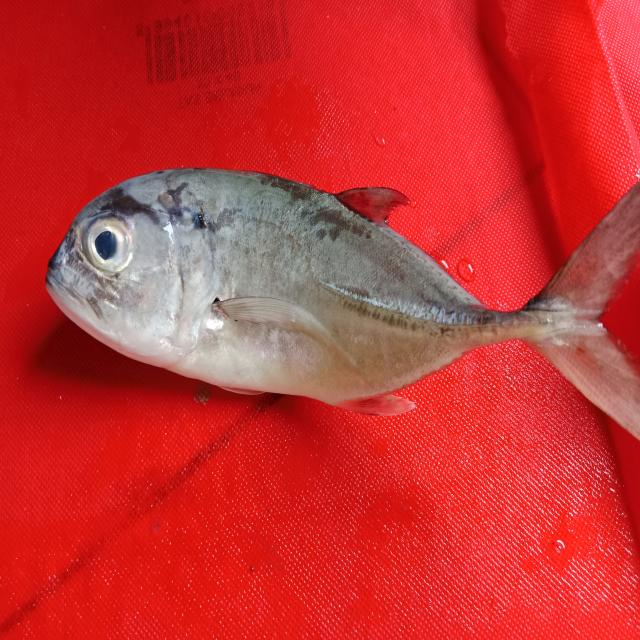ikan: (34, 138, 632, 427)
